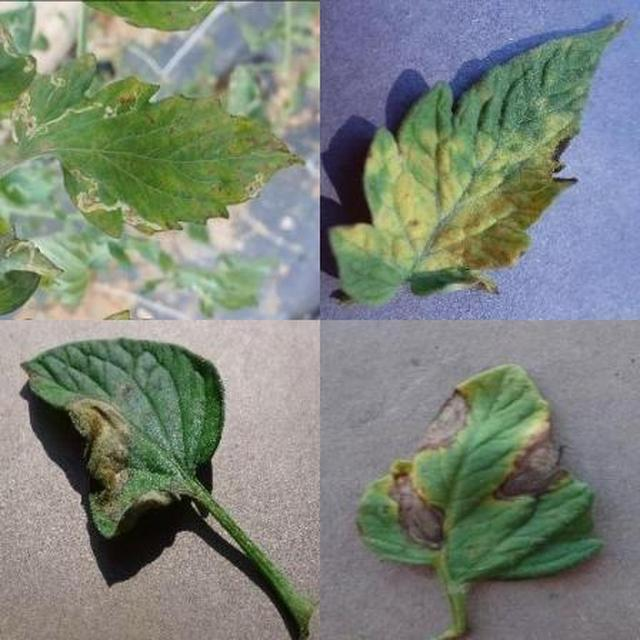Leaf Miner: (176, 209, 640, 640)
